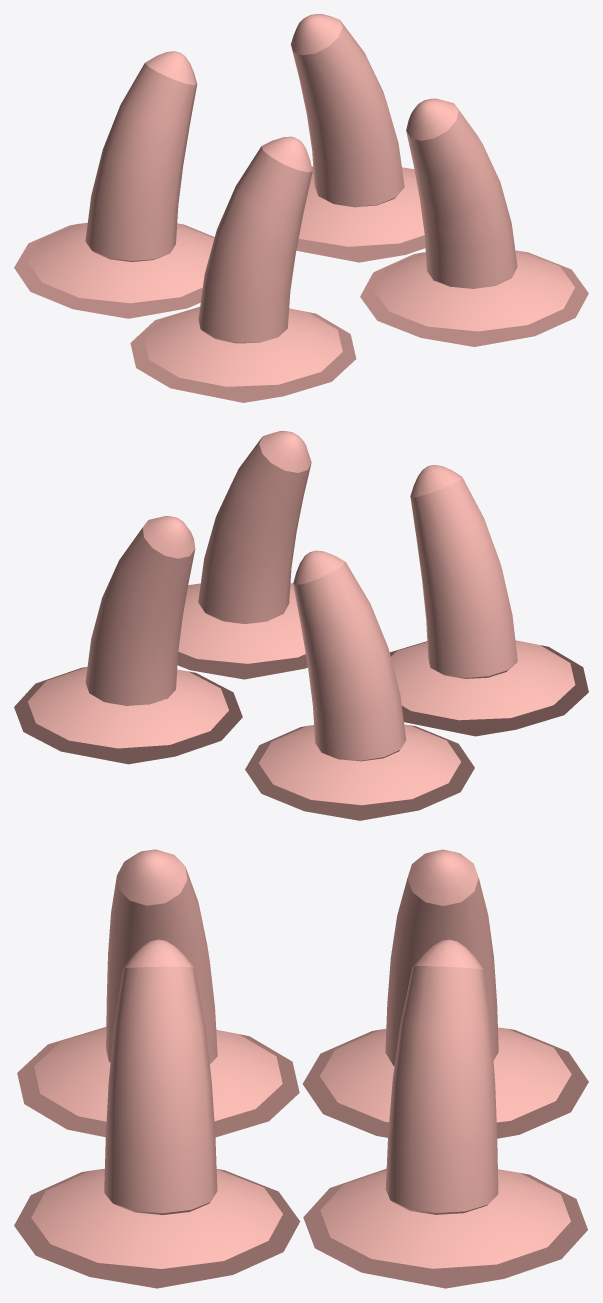
The model's file is Fur2.FBX.
The picture shows the model from 3 angles, top to bottom: view 1: azimuth 30°, elevation 25°; view 2: azimuth 150°, elevation 25°; view 3: azimuth 270°, elevation 25°; orthographic projection. The views are drawn at different scales.
Parts seen in each view (by area): view 1: OilTank002, OilTank004, OilTank001, OilTank003, Spindle004, Spindle003, Spindle002, Spindle001; view 2: OilTank002, OilTank004, OilTank003, OilTank001, Spindle002, Spindle001, Spindle004, Spindle003; view 3: OilTank003, OilTank001, Spindle003, Spindle001, Spindle002, Spindle004, OilTank002, OilTank004.
Boxes of the visible parts, x1,y1,x2,y2 form: OilTank002: (85, 51, 197, 261); OilTank004: (198, 136, 312, 343); OilTank001: (290, 14, 404, 207); OilTank003: (406, 98, 517, 288); Spindle004: (130, 306, 356, 402); Spindle003: (360, 250, 588, 346); Spindle002: (14, 222, 214, 318); Spindle001: (296, 166, 425, 262); OilTank002: (293, 550, 405, 761); OilTank004: (410, 465, 517, 678); OilTank003: (198, 431, 311, 623); OilTank001: (85, 516, 195, 705); Spindle002: (245, 724, 474, 820); Spindle001: (14, 667, 242, 764); Spindle004: (389, 640, 588, 736); Spindle003: (177, 583, 307, 679); OilTank003: (104, 939, 217, 1215); OilTank001: (385, 939, 498, 1214); Spindle003: (14, 1168, 300, 1288); Spindle001: (303, 1168, 587, 1288); Spindle002: (302, 1027, 588, 1138); Spindle004: (17, 1027, 299, 1137); OilTank002: (385, 849, 498, 1066); OilTank004: (106, 849, 217, 1064).
Size of the model in its own units: 4800 by 2740 by 4457.
